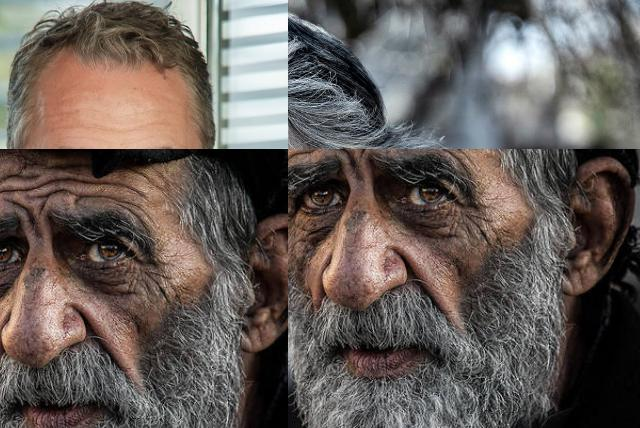crows_feet: (450, 198, 482, 236), (129, 256, 161, 292), (288, 196, 300, 231)
forehead: (48, 168, 114, 194), (17, 184, 69, 202), (77, 187, 119, 207), (93, 119, 133, 136), (5, 170, 42, 182), (288, 149, 313, 164), (0, 184, 11, 198)
frown_line: (19, 201, 37, 230), (340, 149, 358, 173)
gummy_smile: (396, 248, 436, 300), (76, 306, 114, 356)
